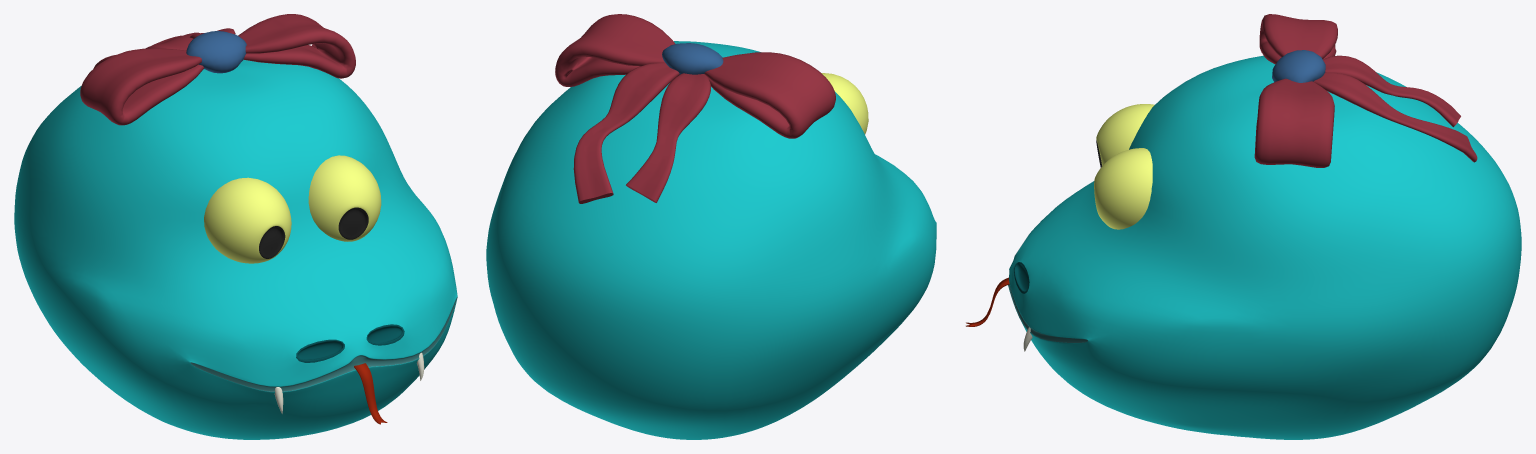
File: MrsSnake_blue.fbx
3 renders of one model, left to right at view 1: azimuth 30°, elevation 25°; view 2: azimuth 150°, elevation 25°; view 3: azimuth 270°, elevation 25°, orthographic. The views are drawn at different scales.
Parts seen in each view (by area): view 1: Mrs.Snake_blue_normal.001, Hair_ribbon_right1.008, RightEye.023, RightEye.022, Hair_ribbon_left1.008, HairRibbon.007, Tongue.013, Hair_ribbon_right2.008; view 2: Mrs.Snake_blue_normal.001, Hair_ribbon_right1.008, Hair_ribbon_left1.008, Hair_ribbon_left2.008, Hair_ribbon_right2.008, HairRibbon.007, RightEye.023; view 3: Mrs.Snake_blue_normal.001, Hair_ribbon_left1.008, RightEye.022, Hair_ribbon_left2.008, Hair_ribbon_right1.008, Hair_ribbon_right2.008, RightEye.023, HairRibbon.007.
Boxes of the visible parts, x1,y1,x2,y2 form: Mrs.Snake_blue_normal.001: (14,59,457,439); Hair_ribbon_right1.008: (80,48,203,125); RightEye.023: (204,177,291,263); RightEye.022: (308,155,381,241); Hair_ribbon_left1.008: (238,14,355,78); HairRibbon.007: (186,31,246,73); Tongue.013: (354,363,387,424); Hair_ribbon_right2.008: (93,36,193,68); Mrs.Snake_blue_normal.001: (486,41,936,439); Hair_ribbon_right1.008: (704,52,835,138); Hair_ribbon_left1.008: (555,14,675,86); Hair_ribbon_left2.008: (573,62,679,203); Hair_ribbon_right2.008: (626,73,710,202); HairRibbon.007: (662,43,723,74); RightEye.023: (821,73,868,134); Mrs.Snake_blue_normal.001: (1008,55,1521,439); Hair_ribbon_left1.008: (1254,78,1334,167); RightEye.022: (1094,148,1152,229); Hair_ribbon_left2.008: (1313,72,1477,162); Hair_ribbon_right1.008: (1259,14,1337,64); Hair_ribbon_right2.008: (1323,55,1460,127); RightEye.023: (1096,104,1154,167); HairRibbon.007: (1272,50,1325,82).
Bounding box in the file's own units: 204 × 204 × 280.
